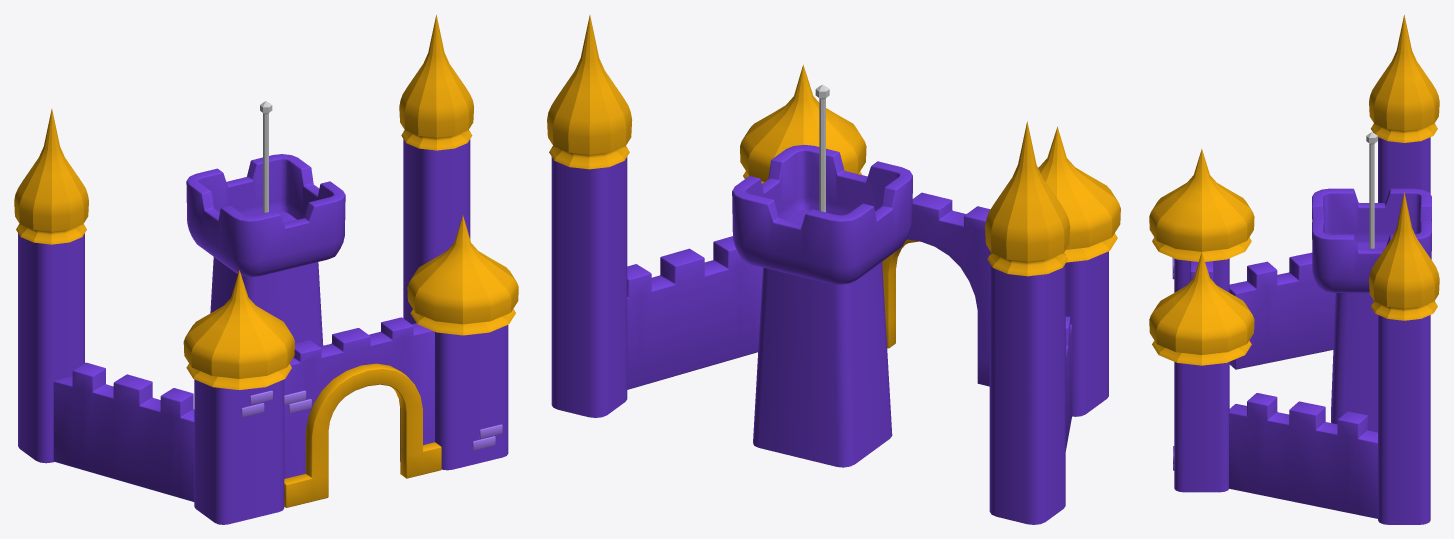
File: castle_violet.fbx
3 renders of one model, left to right at view 1: azimuth 30°, elevation 25°; view 2: azimuth 150°, elevation 25°; view 3: azimuth 270°, elevation 25°, orthographic. The views are drawn at different scales.
Visible parts, largest first — view 1: castle_violet; view 2: castle_violet; view 3: castle_violet.
Part boxes in pixels (x1,y1,x2,y2): castle_violet: [14, 14, 518, 524]; castle_violet: [547, 15, 1120, 524]; castle_violet: [1149, 15, 1439, 524].
Bounding box in the file's own units: 2.72 × 1.97 × 1.61.
